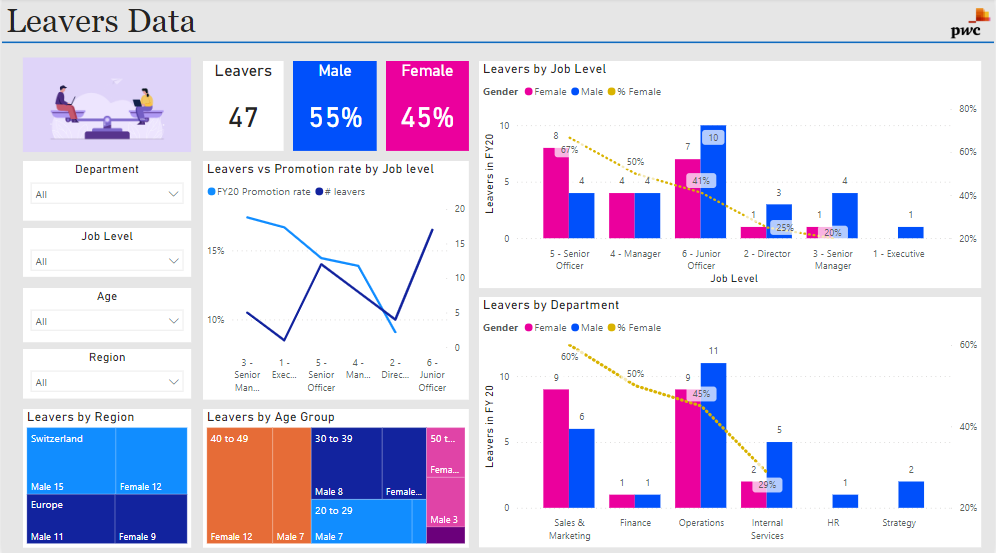

The dashboard page shown, as its layout file describes it:
{"tool":"powerbi","page":{"name":"Leavers Data","canvas":[1280,720],"ordinal":3},"visuals":[{"type":"card","title":"Male","fields":{"Values":["Pharma Group AG.% Male"]},"box":[375.2,81.6,108.4,115.7],"z":0},{"type":"card","title":"Female","fields":{"Values":["Pharma Group AG.% Female"]},"box":[495.2,81.6,107,115.7],"z":1000},{"type":"lineClusteredColumnComboChart","title":"Leavers by Job Level","fields":{"Category":["Pharma Group AG.Job Level after FY20 promotions"],"Series":["Pharma Group AG.Gender"],"Y2":["Pharma Group AG.% Female"],"Y":["CountNonNull(Pharma Group AG.FY20 leaver?)"]},"box":[615.4,81,647.6,293],"z":2000,"group":"g1"},{"type":"treemap","title":"Leavers by Region","fields":{"Group":["Pharma Group AG.Region group: nationality 1"],"Details":["Pharma Group AG.Gender"],"Values":["CountNonNull(Pharma Group AG.FY20 leaver?)"]},"box":[26.9,530.1,216.9,178.6],"z":2000},{"type":"lineClusteredColumnComboChart","title":"Leavers by Department","fields":{"Category":["Pharma Group AG.Last Department in FY20"],"Series":["Pharma Group AG.Gender"],"Y2":["Pharma Group AG.% Female"],"Y":["CountNonNull(Pharma Group AG.FY20 leaver?)"]},"box":[615.1,385.7,648.3,323.4],"z":3000,"group":"g1"},{"type":"treemap","title":"Leavers by Age Group","fields":{"Group":["Pharma Group AG.Age group"],"Details":["Pharma Group AG.Gender"],"Values":["CountNonNull(Pharma Group AG.FY20 leaver?)"]},"box":[259.4,530.1,343,178.6],"z":3000},{"type":"textbox","box":[0,0,1279.8,65.2],"z":4000},{"type":"shape","box":[0,48.9,1280,16.3],"z":5000},{"type":"image","box":[1218.9,0,60.9,65.2],"z":6000},{"type":"slicer","title":"Department","fields":{"Values":["Pharma Group AG.Last Department in FY20"]},"box":[27,210,217,77.4],"z":7000},{"type":"slicer","title":"Region","fields":{"Values":["Pharma Group AG.Region group: nationality 1"]},"box":[27.6,453.1,217.3,64.5],"z":8000},{"type":"slicer","title":"Age","fields":{"Values":["Pharma Group AG.Age group"]},"box":[27.6,373.9,217.3,70],"z":9000},{"type":"slicer","title":"Job Level","fields":{"Values":["Pharma Group AG.Job Level after FY20 promotions"]},"box":[27.6,296.5,217.3,62.6],"z":10000},{"type":"image","box":[22.1,66.3,226.5,143.7],"z":11000},{"type":"group","id":"g1","title":"Group 2","box":[615.1,81,648.3,628],"z":12000},{"type":"card","title":"Leavers","fields":{"Values":["Pharma Group AG.# leavers"]},"box":[259.6,81.6,103.8,115.7],"z":13000},{"type":"lineChart","title":"Leavers vs Promotion rate by Job level","fields":{"Y":["Pharma Group AG.FY20 Promotion rate"],"Category":["Pharma Group AG.Job Level after FY20 promotions"],"Y2":["Pharma Group AG.# leavers"]},"box":[259.4,209.8,343,307.6],"z":13001}]}

Visuals, with their boxes in screenshot pixels (x1, y1, x2, y2), scaled from the page's 1280x720 canvas onto the 996x553 screenshot:
"Male" card: box(292, 63, 376, 152)
"Female" card: box(385, 63, 469, 152)
"Leavers by Job Level" lineClusteredColumnComboChart: box(479, 62, 983, 287)
"Leavers by Region" treemap: box(21, 407, 190, 544)
"Leavers by Department" lineClusteredColumnComboChart: box(479, 296, 983, 545)
"Leavers by Age Group" treemap: box(202, 407, 469, 544)
textbox: box(0, 0, 995, 50)
shape: box(0, 38, 995, 50)
image: box(948, 0, 995, 50)
"Department" slicer: box(21, 161, 190, 221)
"Region" slicer: box(21, 348, 191, 398)
"Age" slicer: box(21, 287, 191, 341)
"Job Level" slicer: box(21, 228, 191, 276)
image: box(17, 51, 193, 161)
"Group 2" group: box(479, 62, 983, 545)
"Leavers" card: box(202, 63, 283, 152)
"Leavers vs Promotion rate by Job level" lineChart: box(202, 161, 469, 397)
